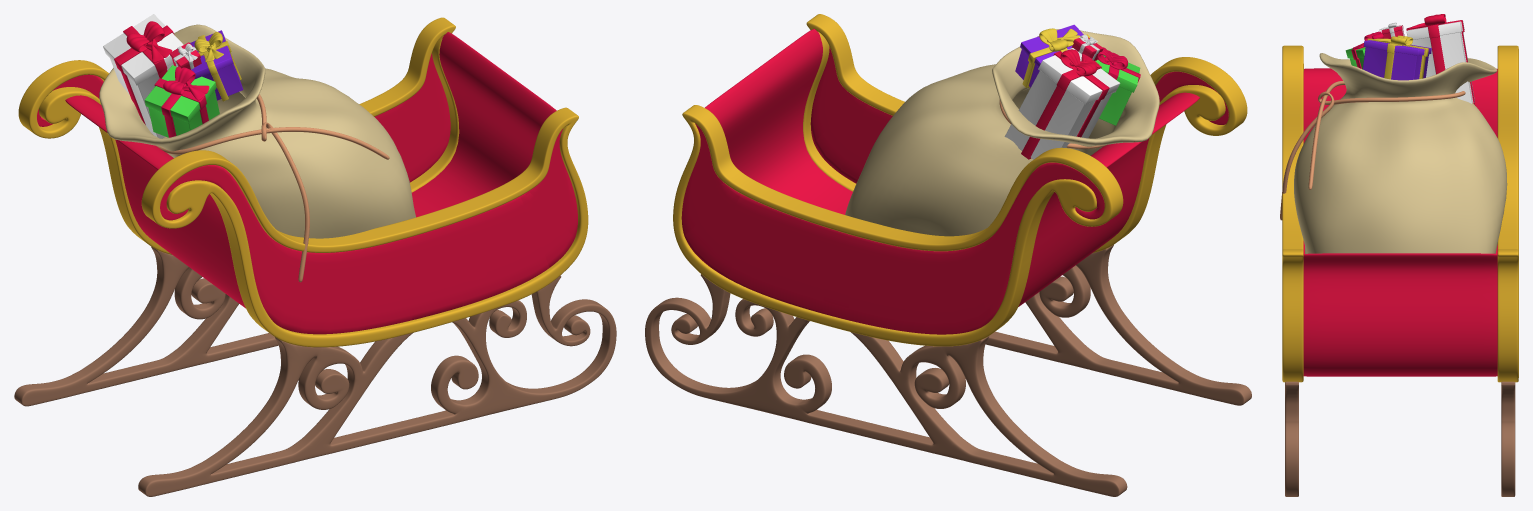
The model's file is santas_sleigh.fbx.
3 views of the same model, side by side, from view 1: azimuth 30°, elevation 25°; view 2: azimuth 150°, elevation 25°; view 3: azimuth 270°, elevation 25° (orthographic). The views are drawn at different scales.
Parts seen in each view (by area): view 1: Object_8, Object_6, Object_4, Object_10, Object_13, Object_11, Object_22, Object_17, Object_15, Object_27, Object_25, Object_23 (+2 smaller); view 2: Object_8, Object_6, Object_4, Object_10, Object_13, Object_11, Object_22, Object_23, Object_17, Object_27, Object_25; view 3: Object_4, Object_13, Object_6, Object_10, Object_27, Object_15, Object_22, Object_11, Object_23, Object_28, Object_25.
Part boxes in pixels (box(x1,y1,x2,y2)): Object_8: box(37, 53, 577, 334); Object_6: box(18, 17, 588, 347); Object_4: box(99, 24, 415, 238); Object_10: box(14, 246, 616, 496); Object_13: box(65, 32, 556, 308); Object_11: box(105, 257, 603, 495); Object_22: box(103, 14, 183, 138); Object_17: box(144, 65, 219, 137); Object_15: box(156, 94, 389, 282); Object_27: box(190, 30, 243, 100); Object_25: box(126, 21, 172, 62); Object_23: box(114, 25, 174, 124); Object_8: box(681, 46, 1228, 334); Object_6: box(673, 14, 1247, 346); Object_4: box(845, 29, 1159, 236); Object_10: box(645, 248, 1251, 496); Object_13: box(705, 29, 1199, 306); Object_11: box(712, 245, 1251, 490); Object_22: box(1004, 48, 1120, 159); Object_23: box(1021, 51, 1109, 159); Object_17: box(1095, 55, 1140, 125); Object_27: box(1015, 24, 1083, 87); Object_25: box(1060, 49, 1100, 76); Object_4: box(1294, 53, 1507, 253); Object_13: box(1303, 68, 1497, 376); Object_6: box(1282, 45, 1518, 382); Object_10: box(1285, 381, 1515, 496); Object_27: box(1362, 40, 1431, 80); Object_15: box(1280, 81, 1465, 220); Object_22: box(1406, 20, 1474, 103); Object_11: box(1285, 382, 1298, 496); Object_23: box(1406, 20, 1475, 105); Object_28: box(1367, 38, 1428, 79); Object_25: box(1406, 14, 1446, 29).
Size of the model in its own units: 1.96 by 1.54 by 0.983.
